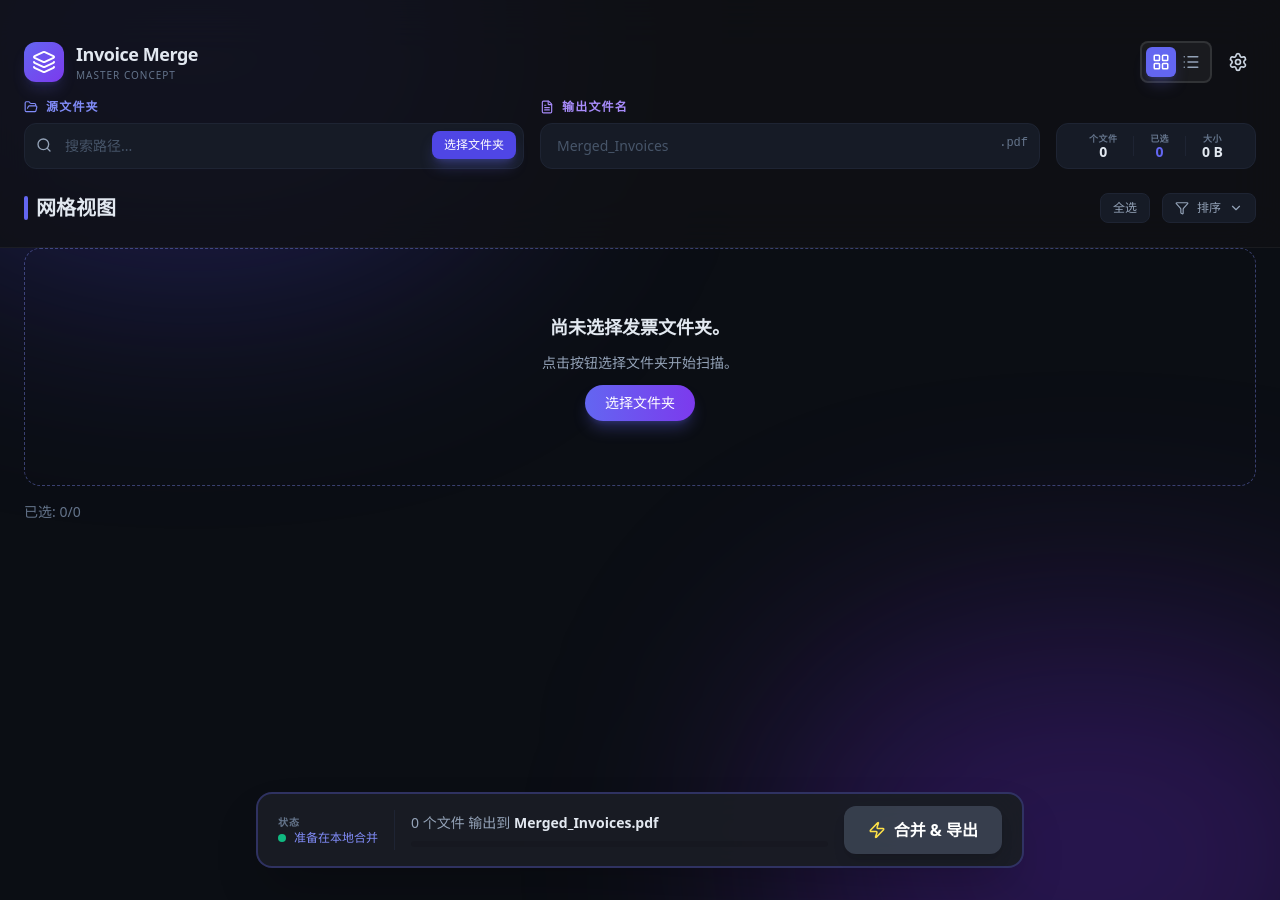
Test: App › shows success and failure dialogs from platform merge results
This screenshot has width=1280, height=900.
Click the button "选择文件夹" in the row of "0 B" at [474, 145], box [432, 131, 516, 159]
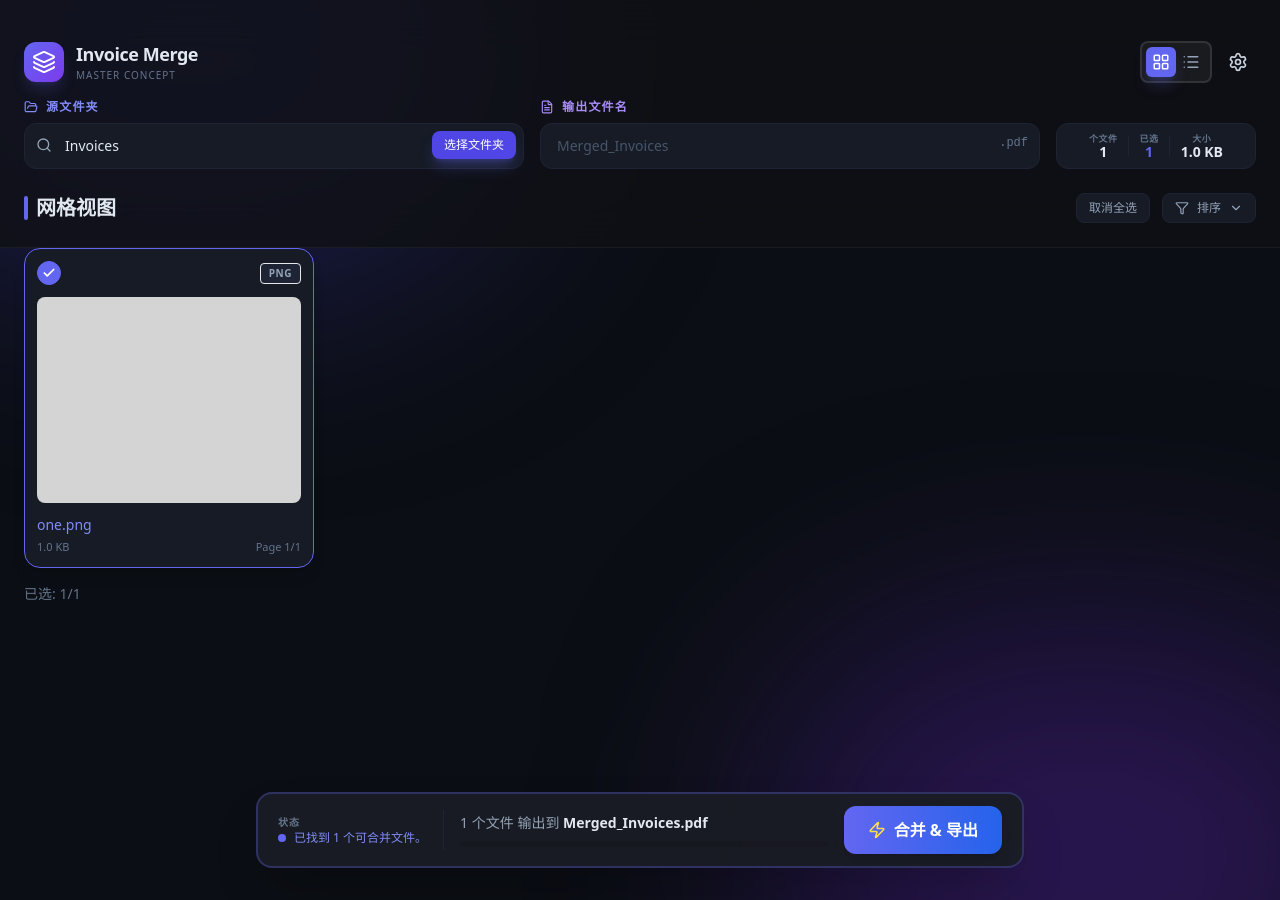
Check: the field showing "Invoices" is shown, box [24, 123, 524, 169]
Click the button with aria-label "合并并导出" at [923, 830], box [844, 806, 1002, 854]
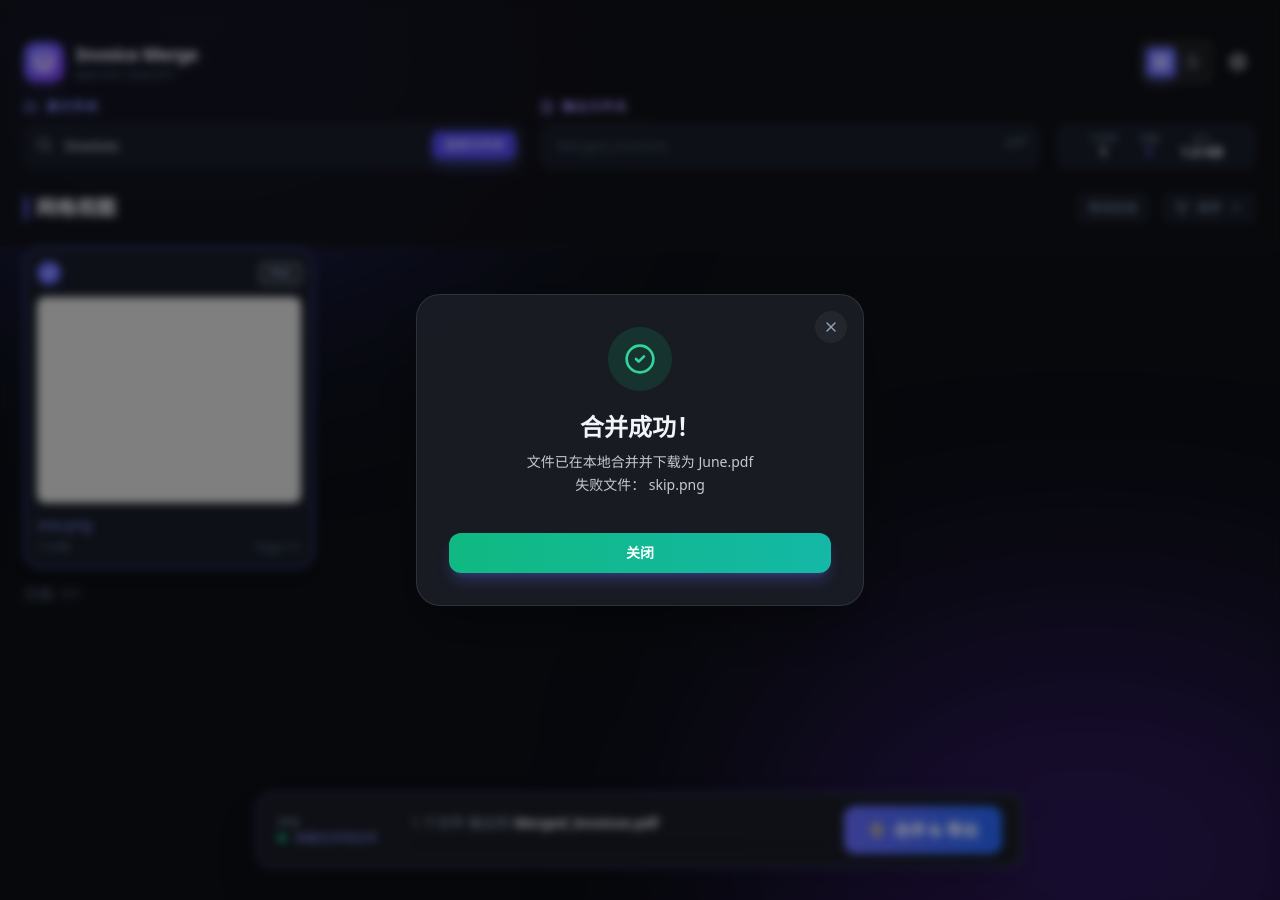
Check: the text "文件已在本地合并并下载为 June.pdf 失败文件： skip.png" is shown, box [527, 452, 753, 494]
Click the button "关闭" at [640, 553], box [449, 533, 831, 573]
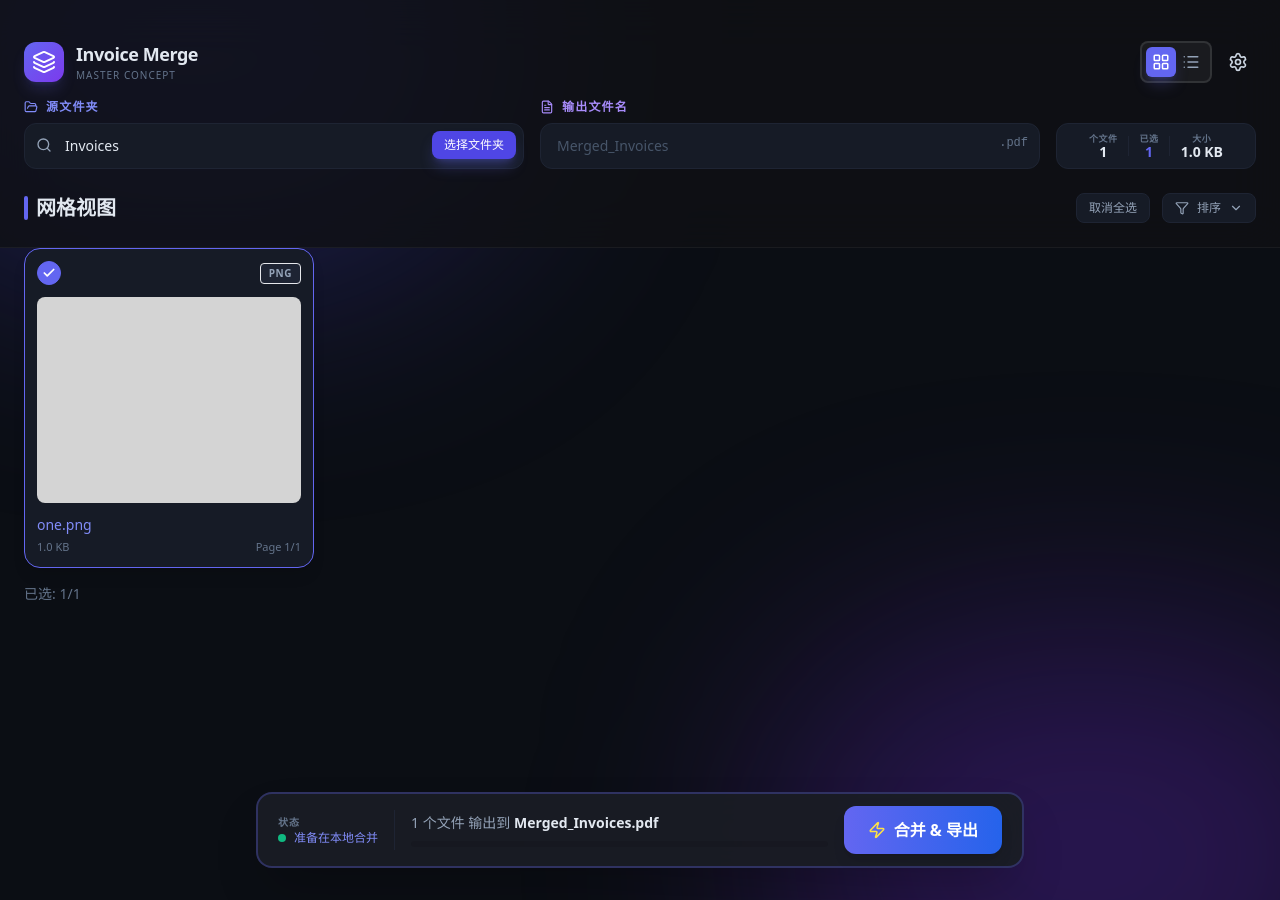
Click the button with aria-label "合并并导出" at [923, 830], box [844, 806, 1002, 854]
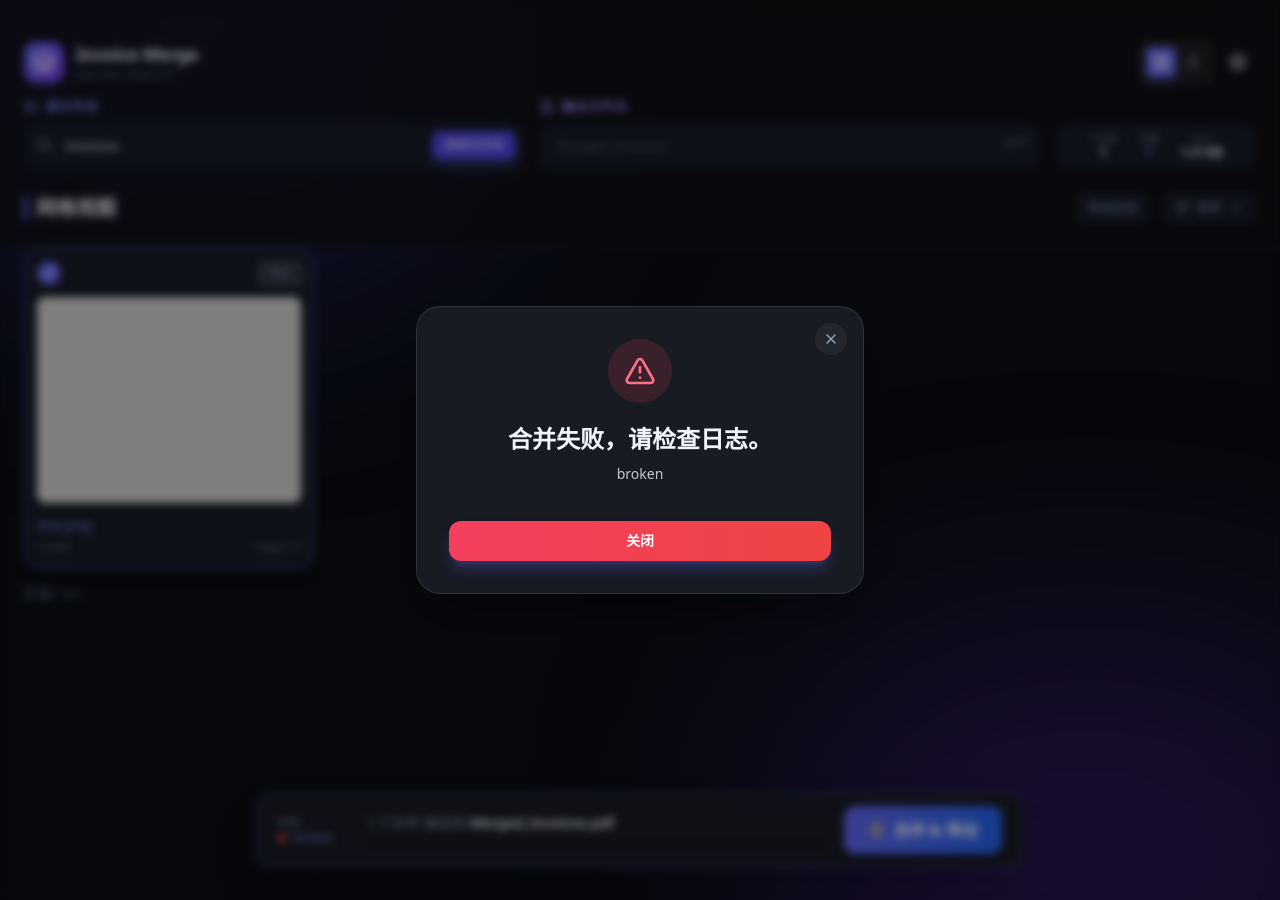
Check: the text "broken" below "状态" is shown, box [294, 828, 334, 846]
